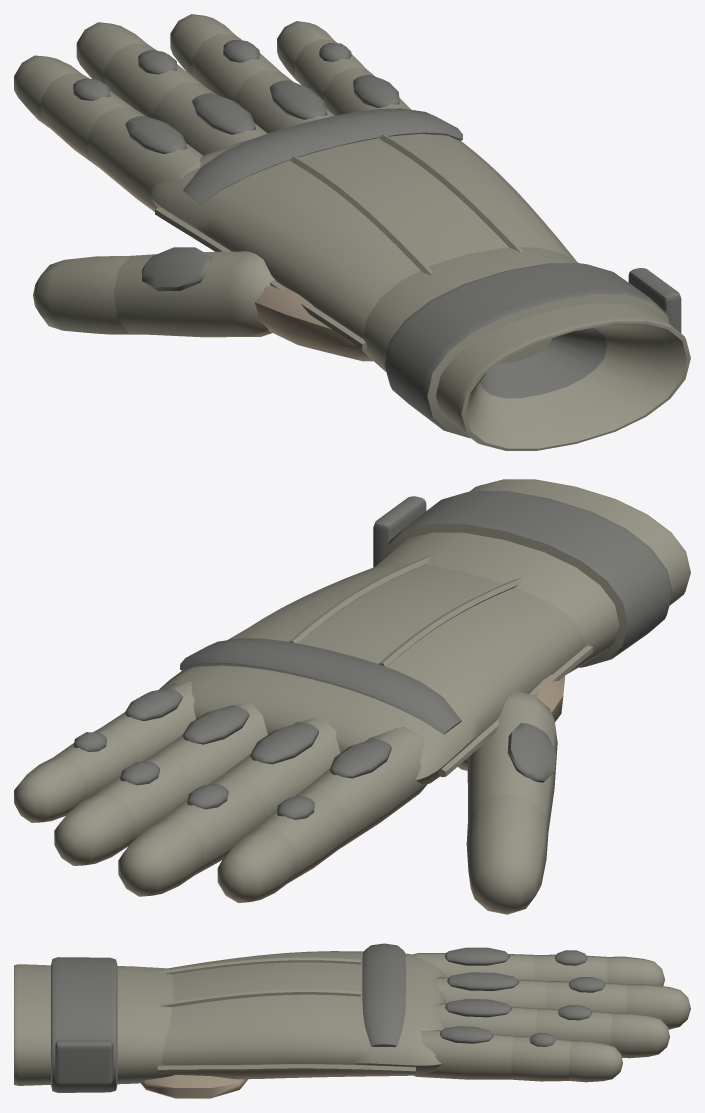
Rendered from glove_right.glb.
3 renders of one model, top to bottom at view 1: azimuth 30°, elevation 25°; view 2: azimuth 150°, elevation 25°; view 3: azimuth 270°, elevation 25°, orthographic. The views are drawn at different scales.
Parts seen in each view (by area): view 1: palm, finger_4_0, finger_0_0, finger_4_1, finger_1_0, finger_0_1, finger_1_1, finger_2_0, finger_2_1, finger_3_0, finger_3_1, finger_1_2 (+3 smaller); view 2: palm, finger_4_1, finger_4_0, finger_0_0, finger_1_0, finger_2_0, finger_1_1, finger_1_2, finger_0_1, finger_0_2, finger_2_2, finger_2_1 (+3 smaller); view 3: palm, finger_3_0, finger_1_0, finger_2_0, finger_3_1, finger_0_0, finger_1_1, finger_2_1, finger_2_2, finger_1_2, finger_3_2, finger_0_1 (+1 smaller).
Part boxes in pixels (bbox=[...]): palm: bbox=[149, 108, 690, 450]; finger_4_0: bbox=[113, 247, 275, 337]; finger_0_0: bbox=[88, 107, 202, 211]; finger_4_1: bbox=[33, 256, 142, 334]; finger_1_0: bbox=[154, 82, 267, 155]; finger_0_1: bbox=[41, 73, 133, 167]; finger_1_1: bbox=[104, 43, 201, 118]; finger_2_0: bbox=[234, 70, 334, 133]; finger_2_1: bbox=[192, 33, 280, 101]; finger_3_0: bbox=[324, 67, 410, 115]; finger_3_1: bbox=[295, 38, 366, 99]; finger_1_2: bbox=[76, 22, 148, 83]; palm: bbox=[159, 479, 690, 785]; finger_4_1: bbox=[466, 794, 548, 914]; finger_4_0: bbox=[467, 691, 557, 832]; finger_0_0: bbox=[304, 726, 426, 848]; finger_1_0: bbox=[220, 716, 340, 818]; finger_2_0: bbox=[154, 702, 267, 788]; finger_1_1: bbox=[162, 775, 266, 874]; finger_1_2: bbox=[118, 817, 204, 896]; finger_0_1: bbox=[255, 788, 349, 882]; finger_0_2: bbox=[217, 827, 297, 902]; finger_2_2: bbox=[54, 792, 134, 865]; finger_2_1: bbox=[96, 754, 196, 847]; palm: bbox=[14, 943, 446, 1098]; finger_3_0: bbox=[413, 1026, 514, 1079]; finger_1_0: bbox=[432, 972, 546, 1008]; finger_2_0: bbox=[434, 999, 538, 1036]; finger_3_1: bbox=[511, 1032, 572, 1081]; finger_0_0: bbox=[413, 947, 534, 980]; finger_1_1: bbox=[545, 977, 627, 1013]; finger_2_1: bbox=[535, 1005, 612, 1045]; finger_2_2: bbox=[610, 1013, 669, 1058]; finger_1_2: bbox=[626, 984, 690, 1029]; finger_3_2: bbox=[569, 1040, 622, 1082]; finger_0_1: bbox=[534, 950, 607, 982].
Size of the model in its own units: 0.1165 by 0.0486 by 0.2337.
